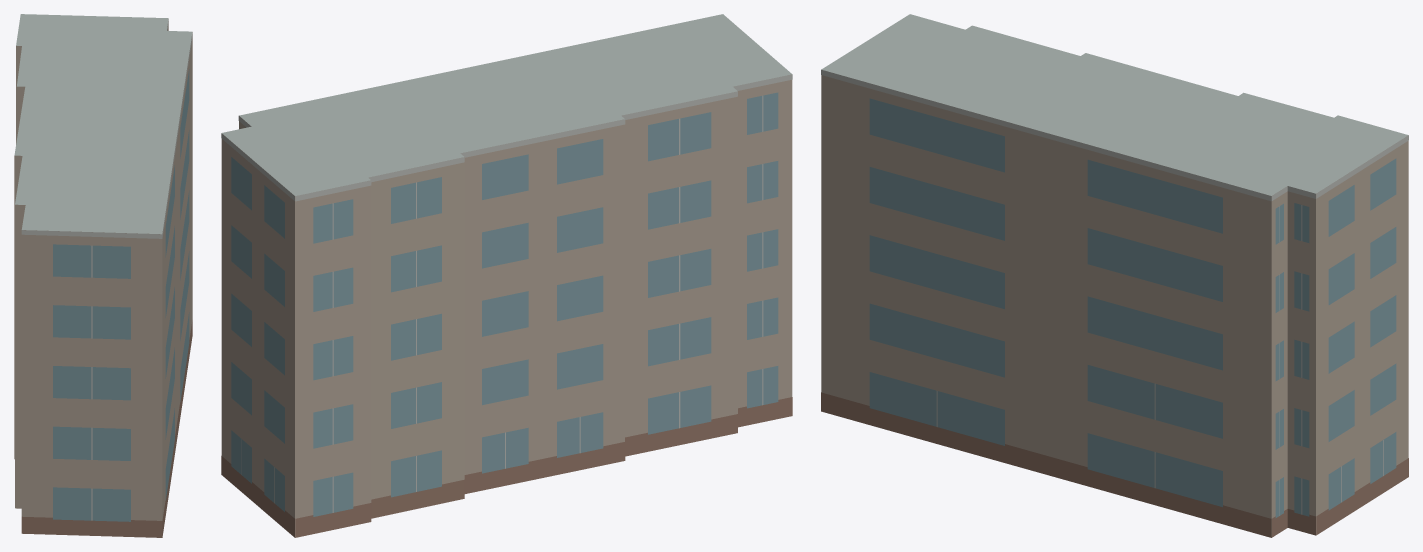
File: survey-upis-32495523.glb
3 views of the same model, side by side, from view 1: azimuth 30°, elevation 25°; view 2: azimuth 150°, elevation 25°; view 3: azimuth 270°, elevation 25° (orthographic). The views are drawn at different scales.
Parts seen in each view (by area): view 1: survey-upis-32495523.tmp; view 2: survey-upis-32495523.tmp; view 3: survey-upis-32495523.tmp.
Boxes of the visible parts, x1,y1,x2,y2 form: survey-upis-32495523.tmp: (14,14,192,537); survey-upis-32495523.tmp: (221,14,792,537); survey-upis-32495523.tmp: (821,14,1408,537).
Size of the model in its own units: 17.88 by 15.65 by 24.39.
